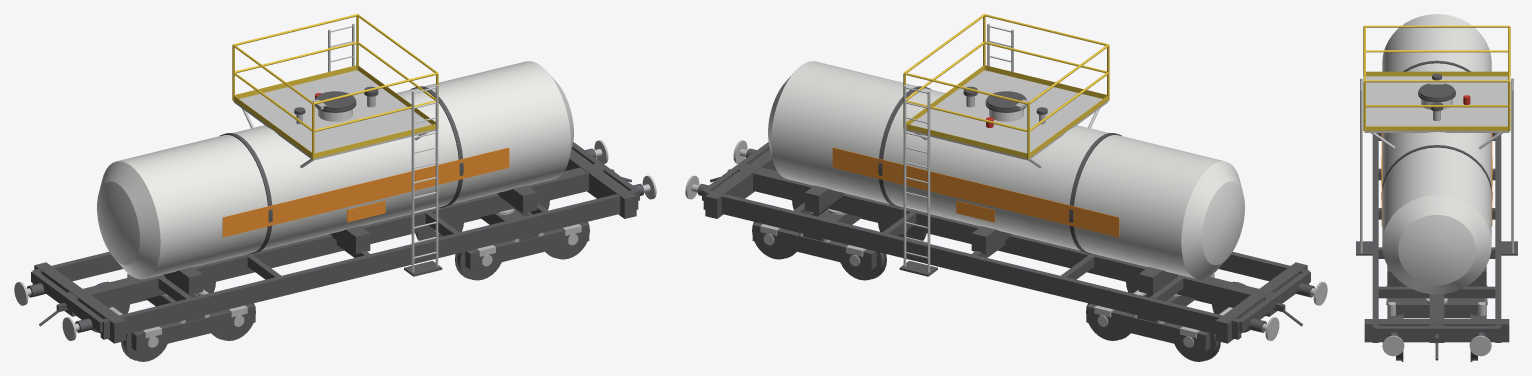
The model's file is SM_AcidTankWagon.fbx.
3 renders of one model, left to right at view 1: azimuth 30°, elevation 25°; view 2: azimuth 150°, elevation 25°; view 3: azimuth 270°, elevation 25°, orthographic. The views are drawn at different scales.
Parts seen in each view (by area): view 1: AT_Body, AT_Bogie1_Frame, AT_Bogie2_Frame, AT_Bogie1_WS1, AT_Bogie2_WS1, AT_Bogie2_WS2, AT_Bogie1_WS2, AT_ManwayLid; view 2: AT_Body, AT_Bogie1_Frame, AT_Bogie2_Frame, AT_Bogie1_WS1, AT_Bogie2_WS1, AT_Bogie2_WS2, AT_Bogie1_WS2, AT_ManwayLid; view 3: AT_Body, AT_Bogie1_Frame, AT_ManwayLid, AT_Bogie1_WS2.
Boxes of the visible parts, x1=… form: AT_Body: x1=14, y1=14, x2=656, y2=343; AT_Bogie1_Frame: x1=464, y1=208, x2=589, y2=269; AT_Bogie2_Frame: x1=127, y1=273, x2=255, y2=351; AT_Bogie1_WS1: x1=415, y1=221, x2=501, y2=280; AT_Bogie2_WS1: x1=92, y1=281, x2=167, y2=361; AT_Bogie2_WS2: x1=189, y1=282, x2=255, y2=340; AT_Bogie1_WS2: x1=514, y1=200, x2=589, y2=259; AT_ManwayLid: x1=312, y1=91, x2=355, y2=109; AT_Body: x1=685, y1=14, x2=1327, y2=343; AT_Bogie1_Frame: x1=752, y1=208, x2=877, y2=269; AT_Bogie2_Frame: x1=1086, y1=273, x2=1214, y2=351; AT_Bogie1_WS1: x1=840, y1=221, x2=926, y2=280; AT_Bogie2_WS1: x1=1174, y1=281, x2=1249, y2=361; AT_Bogie2_WS2: x1=1086, y1=282, x2=1152, y2=340; AT_Bogie1_WS2: x1=752, y1=200, x2=827, y2=259; AT_ManwayLid: x1=986, y1=91, x2=1029, y2=109; AT_Body: x1=1356, y1=14, x2=1517, y2=360; AT_Bogie1_Frame: x1=1386, y1=285, x2=1487, y2=318; AT_ManwayLid: x1=1419, y1=82, x2=1454, y2=99; AT_Bogie1_WS2: x1=1396, y1=313, x2=1477, y2=361.
Bounding box in the file's own units: 1242 × 474 × 325.
